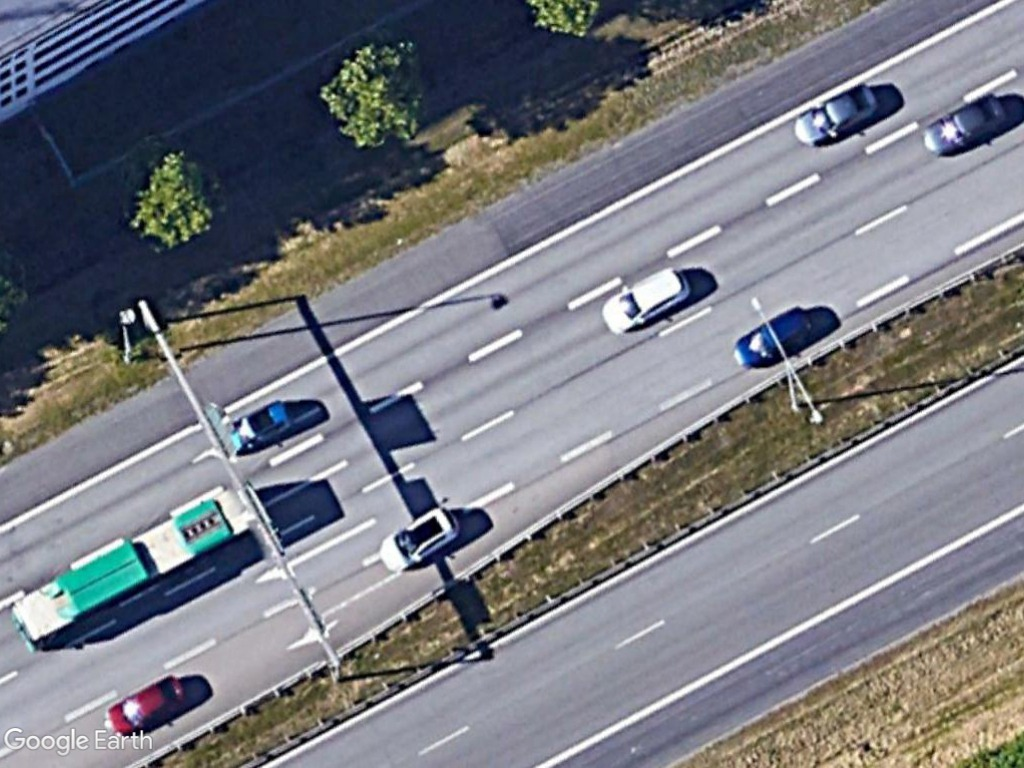bus: (11, 482, 248, 652)
car: (377, 498, 463, 579), (598, 266, 693, 339), (792, 80, 880, 153), (915, 89, 1007, 157), (105, 670, 188, 741), (731, 303, 815, 373)
